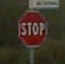stop: (17, 10, 48, 49)
